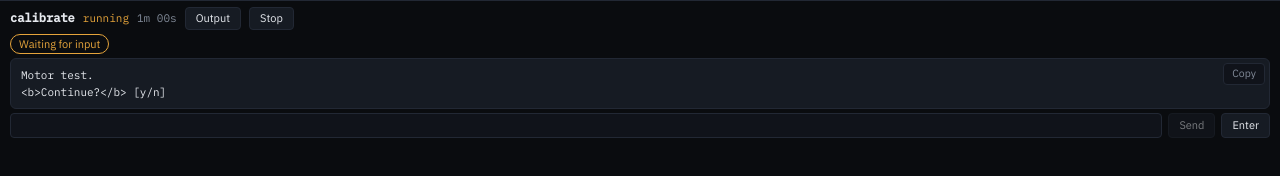
failed sends › explains a failed send ({"name":"ApiError","status":404,"code":"not_found"}) and keeps the text
This screenshot has width=1280, height=176.
Type "y" into the field named "Input for" at (586, 125), box [10, 113, 1162, 138]
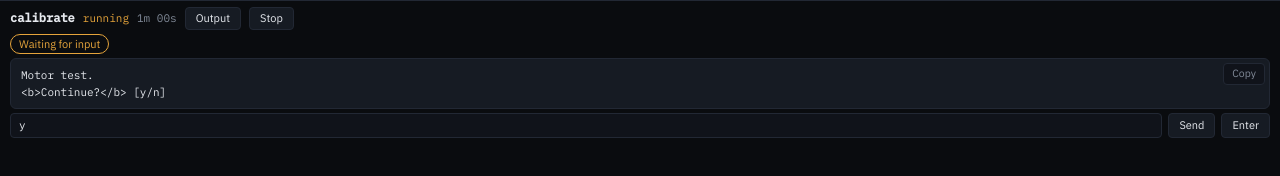
Click the button "Send" at (1192, 125), box [1168, 113, 1216, 138]
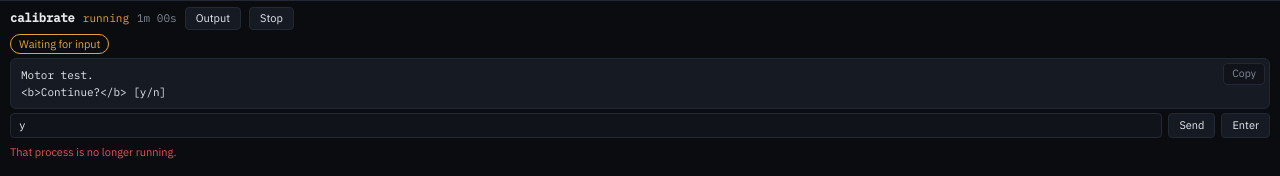
Check: the message does not show "internal detail", box [10, 144, 176, 158]
Check: the button "Send" is enabled, box [1168, 113, 1216, 138]
Check: the message shows "no longer running", box [10, 144, 176, 158]
